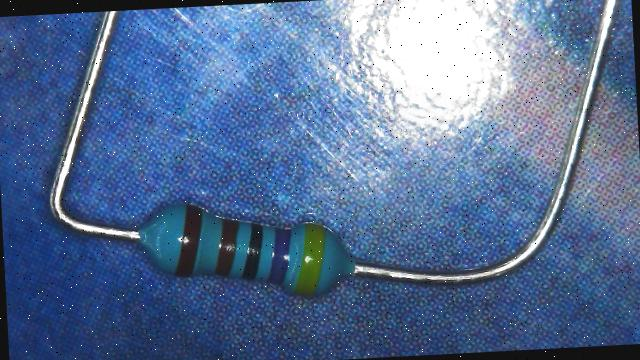black: (239, 222, 265, 279)
brown: (172, 204, 205, 275), (213, 218, 241, 276)
resistor: (132, 189, 359, 310)
violet: (266, 226, 292, 284)
yellow: (290, 222, 328, 296)
